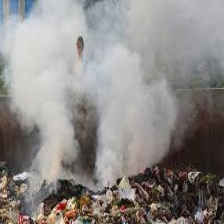smoke: (8, 8, 177, 176)
